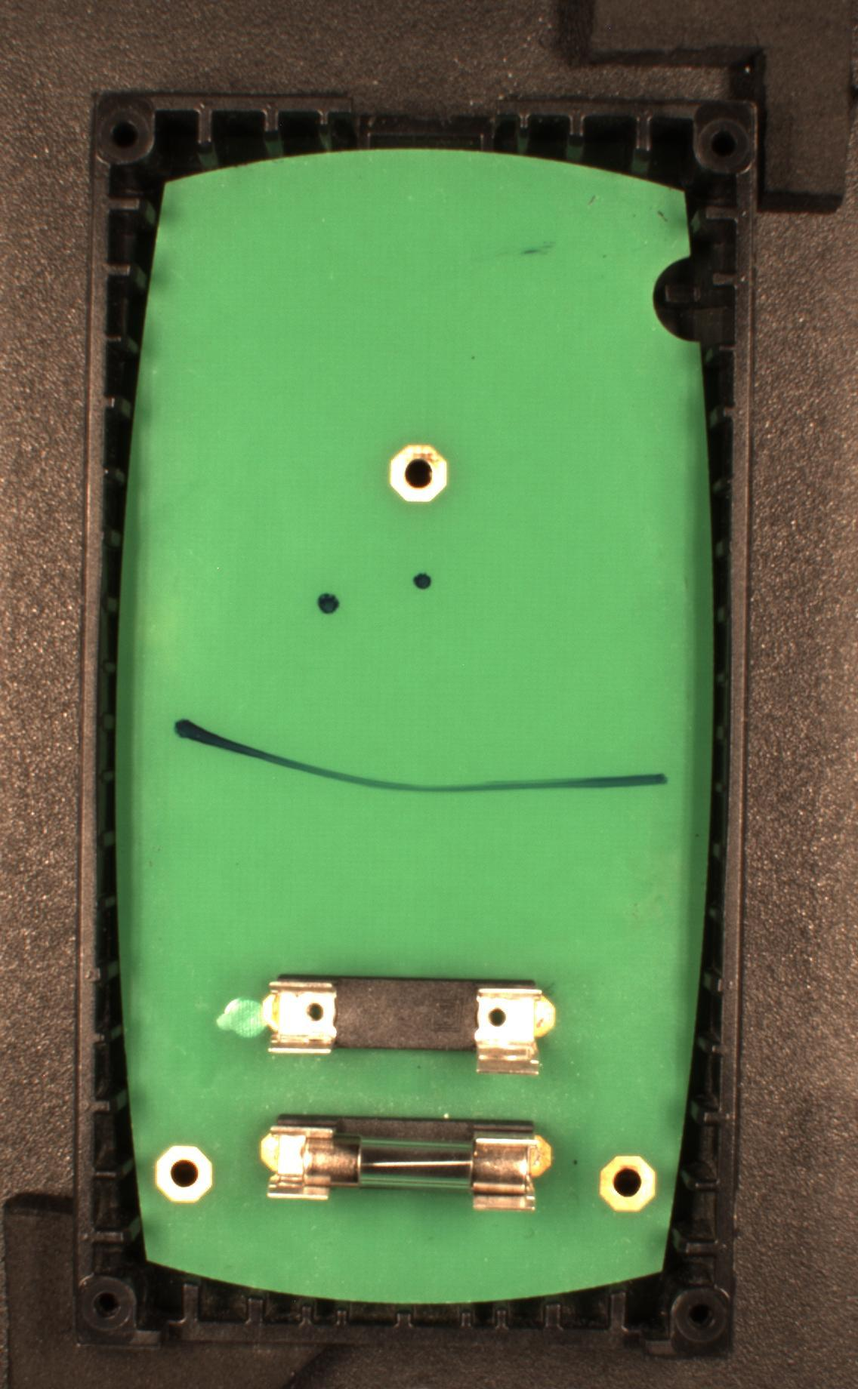Linijsko Ostecene: (174, 718, 669, 795)
Nepostojanje osiguraca: (260, 973, 556, 1077)
Tockasto Ostecenje: (317, 593, 340, 617), (412, 571, 434, 593)
